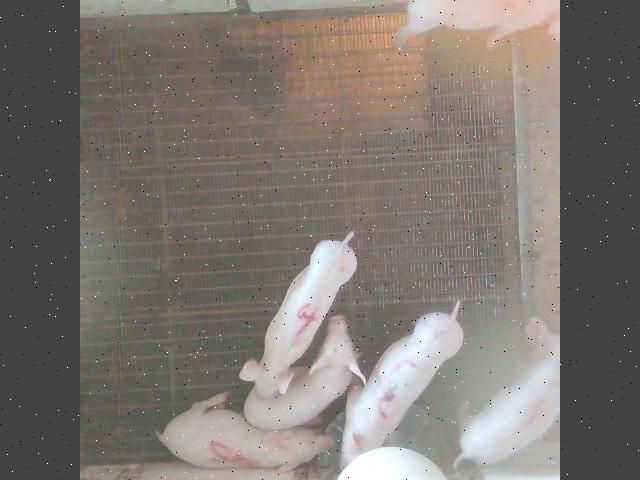pig-1: (456, 356, 559, 465)
pig-2: (395, 0, 559, 49)
pig-3: (342, 300, 463, 466)
pig-4: (239, 231, 356, 396)
pig-5: (158, 392, 332, 470)
